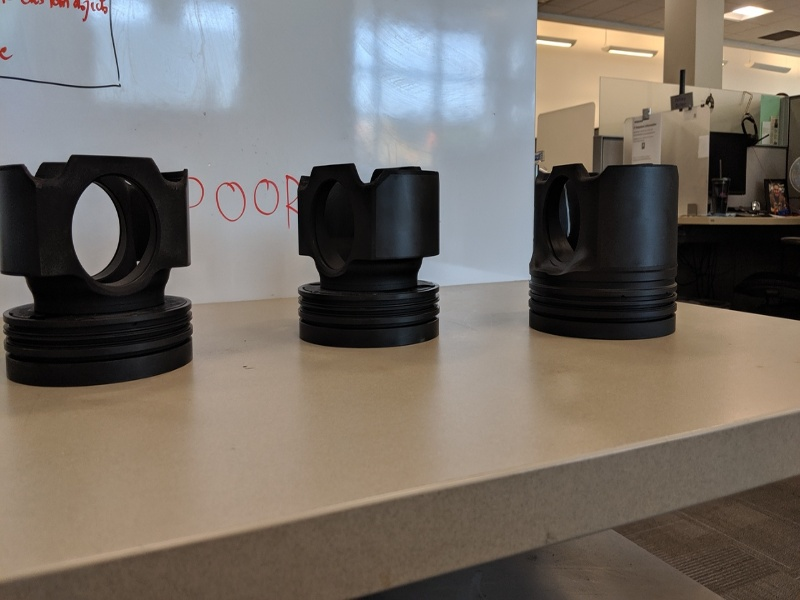piston: (1, 151, 203, 396), (290, 154, 449, 357), (523, 160, 685, 345)
